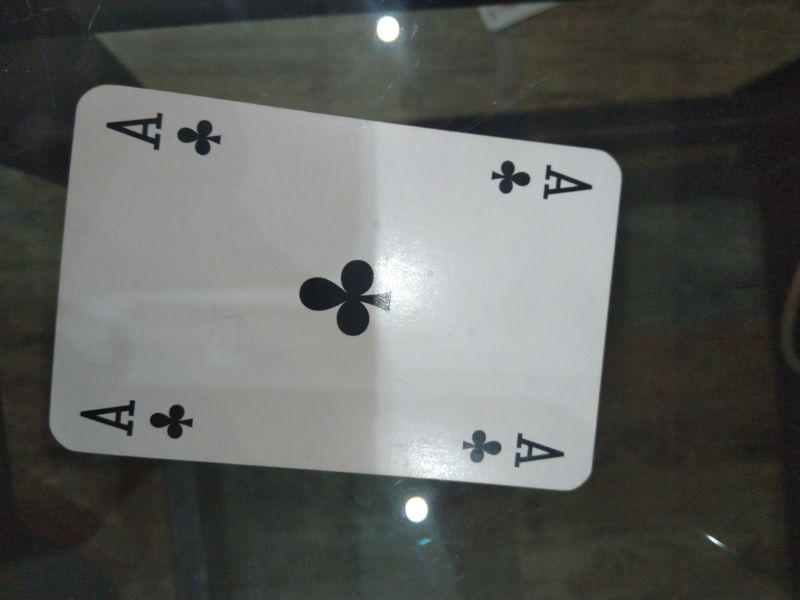Ac: (103, 108, 228, 161), (77, 395, 205, 446), (460, 424, 570, 475), (489, 156, 598, 201)
